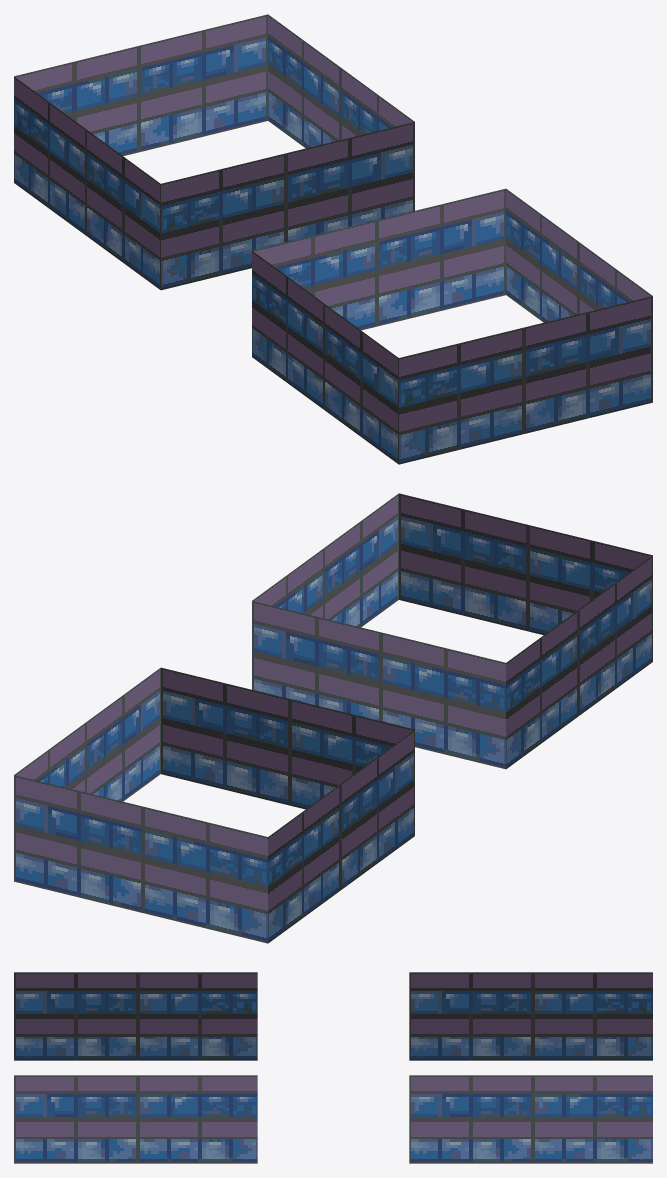
3 renders of one model, top to bottom at view 1: azimuth 30°, elevation 25°; view 2: azimuth 150°, elevation 25°; view 3: azimuth 270°, elevation 25°, orthographic. The views are drawn at different scales.
Visible parts, largest first — view 1: obj-110; view 2: obj-110; view 3: obj-110.
Part boxes in pixels (bbox=[...]): obj-110: bbox=[14, 14, 652, 464]; obj-110: bbox=[14, 493, 652, 943]; obj-110: bbox=[14, 972, 652, 1163].
Bounding box in the file's own units: 1.06 × 0.4258 × 2.79.
1 material, 1 textured.
